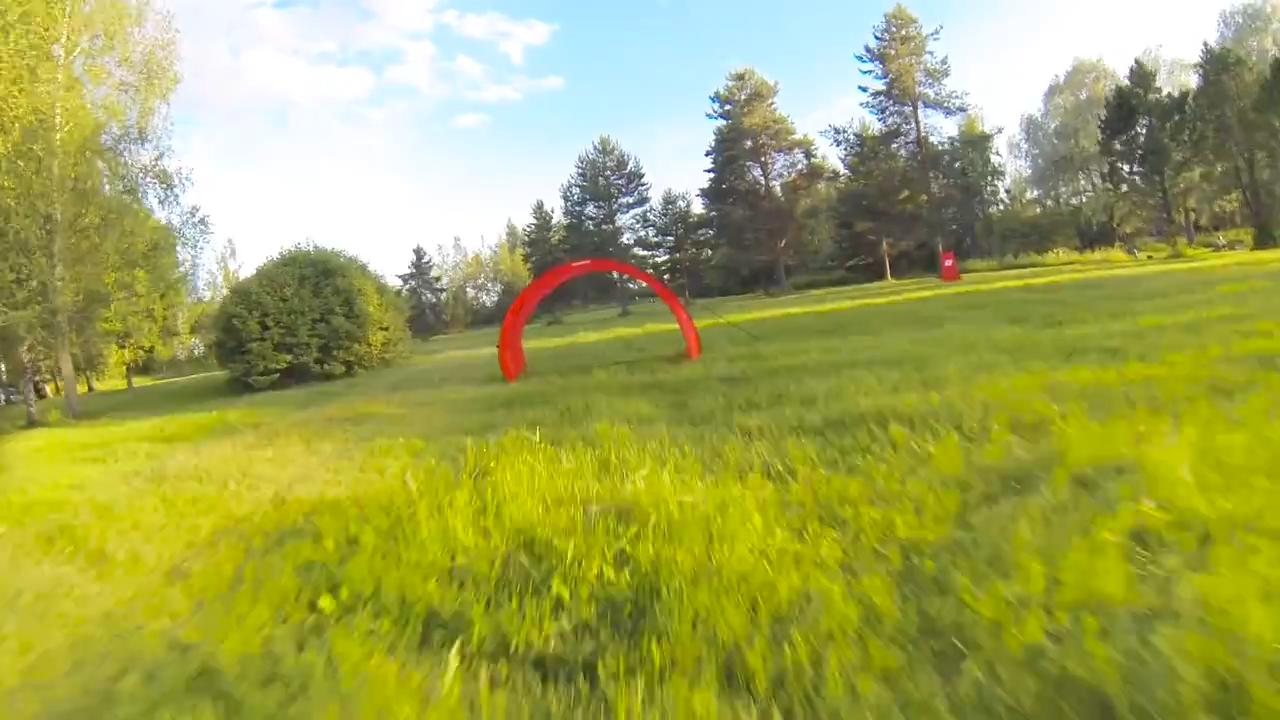gate: (495, 254, 704, 381)
